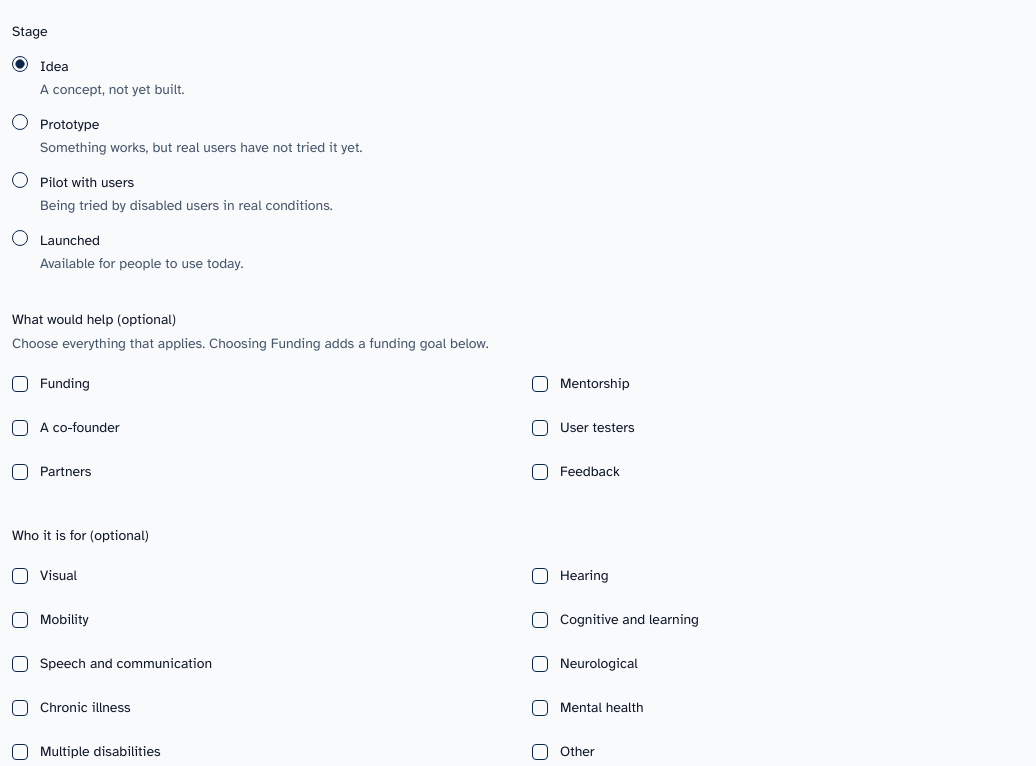
Test: PitchForm › shows funding details only when funding is a need
(page scrolled)
Expected: the field labelled "Funding goal (optional)" is not shown
Click the 1st checkbox named "Funding". click: click(20, 384)
box: [12,376,28,392]
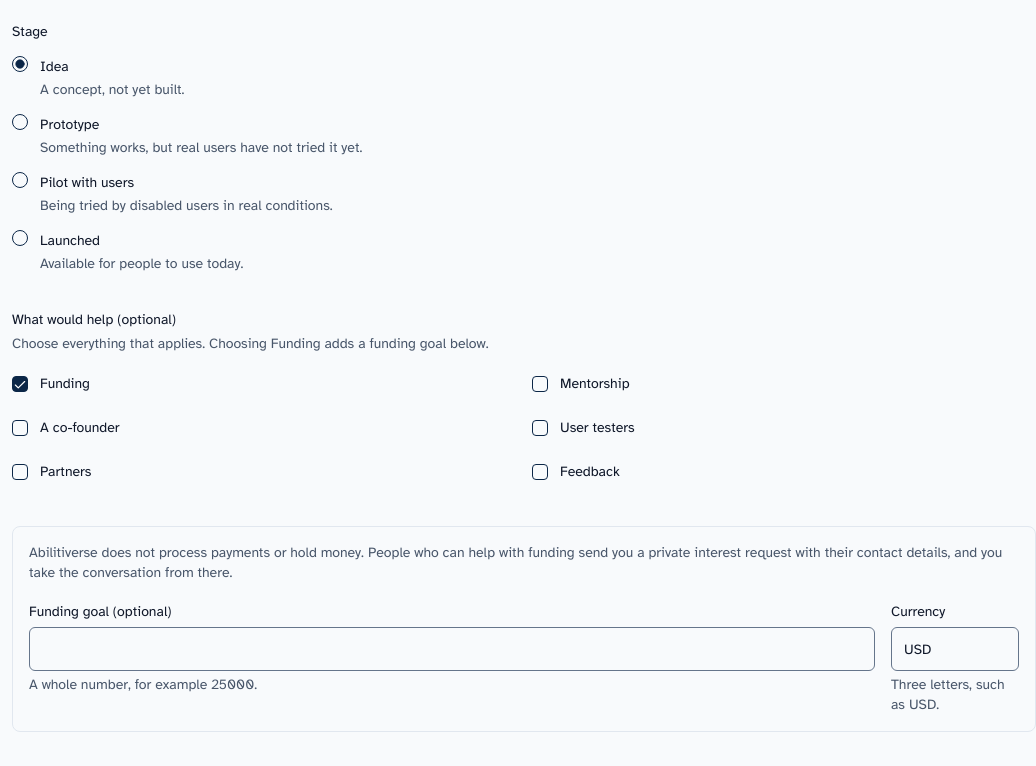
Now the field labelled "Funding goal (optional)" is shown, box [29,627,875,671]
Now the field labelled "Currency" holds "USD", box [891,627,1019,671]
Now the text "does not process payments" is shown, box [29,544,1002,581]
